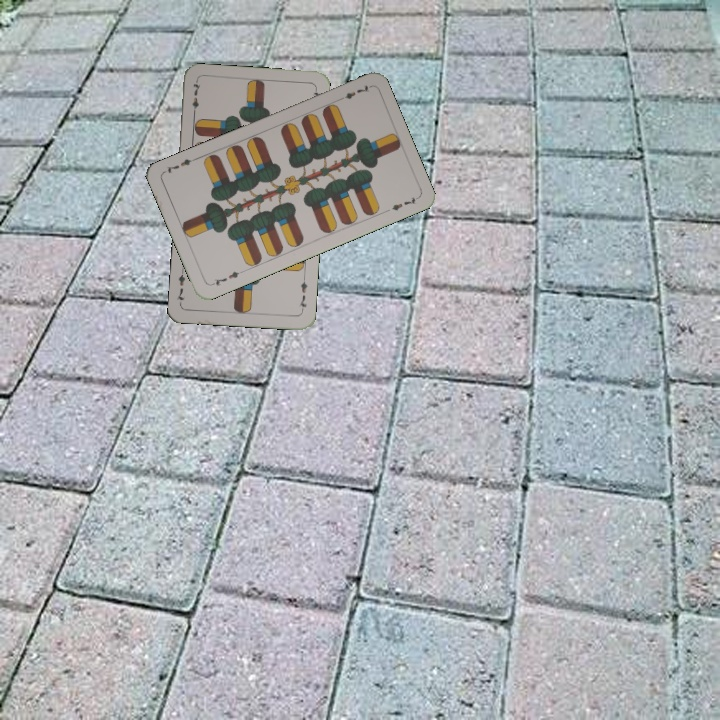E7: (207, 266, 246, 288), (334, 81, 373, 103), (188, 78, 203, 119), (295, 274, 310, 314)
